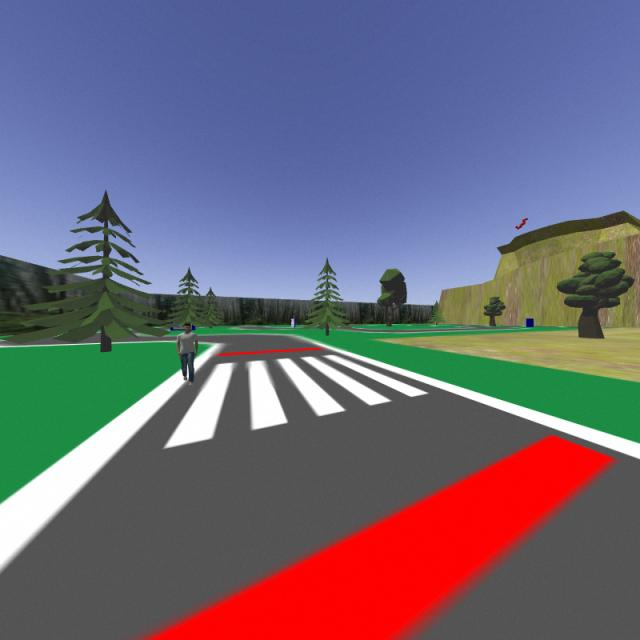pedestrian: (174, 320, 201, 388)
